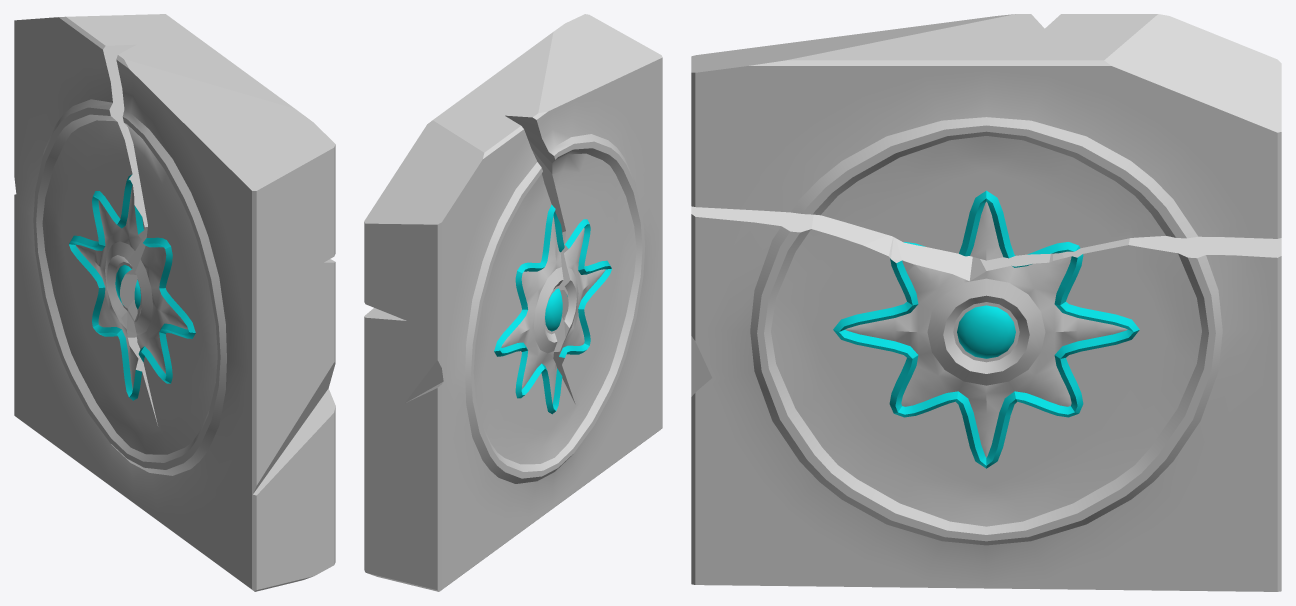
Rendered from Blocks.dae.
3 renders of one model, left to right at view 1: azimuth 30°, elevation 25°; view 2: azimuth 150°, elevation 25°; view 3: azimuth 270°, elevation 25°, orthographic. The views are drawn at different scales.
Parts seen in each view (by area): view 1: SunBurst; view 2: SunBurst; view 3: SunBurst.
Part boxes in pixels (<box>): SunBurst: <box>14,14,335,591</box>; SunBurst: <box>364,14,662,591</box>; SunBurst: <box>691,14,1281,591</box>.
Size of the model in its own units: 0.2577 by 1 by 1.
